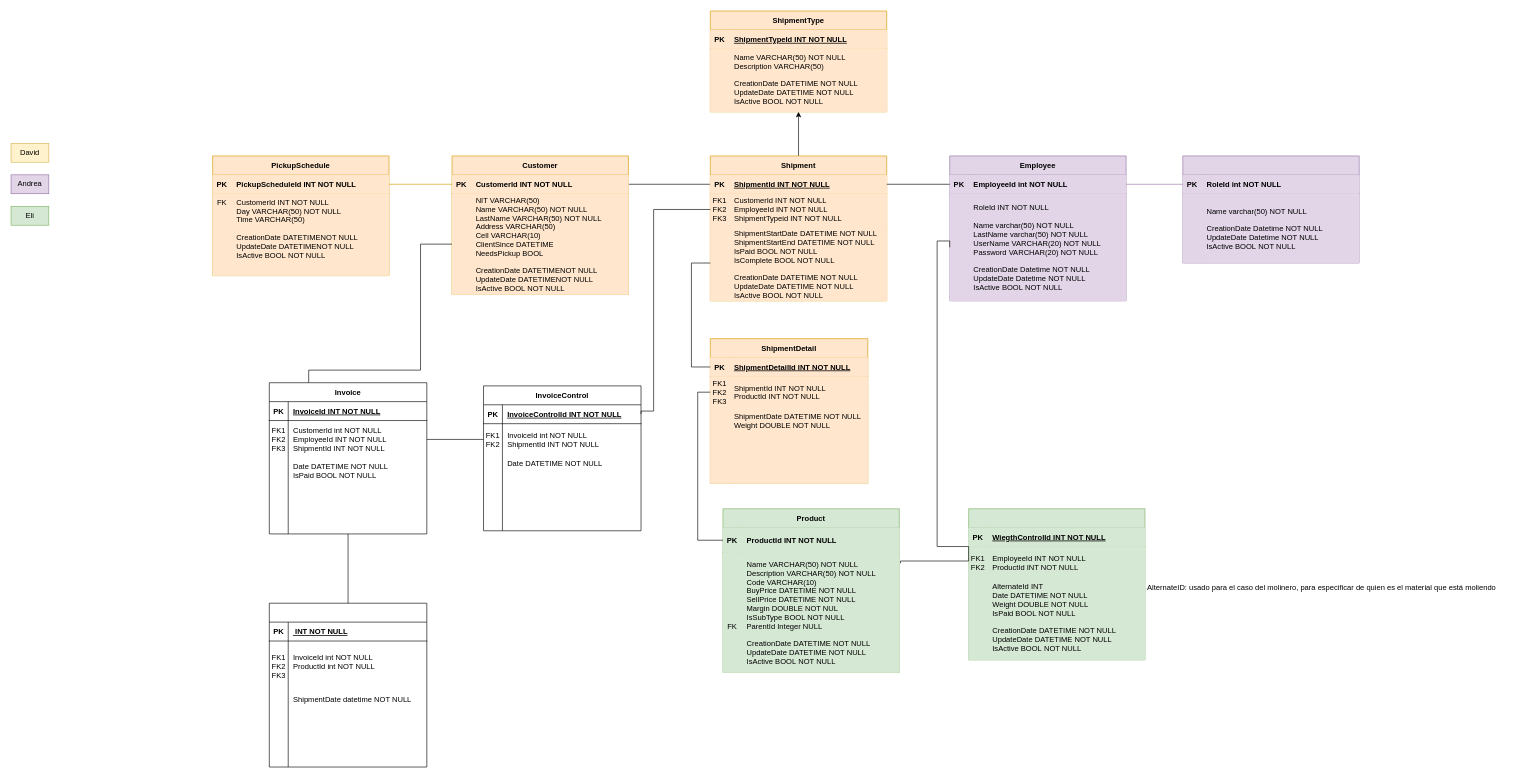
Some shapes in this 1515 by 780 pixel diagram are drawn without their labels. Each missing label, with the box of its shape:
InvoiceDetail: (269, 603, 427, 767)
Roles: (1182, 155, 1359, 263)
WeightControl: (968, 508, 1145, 660)
